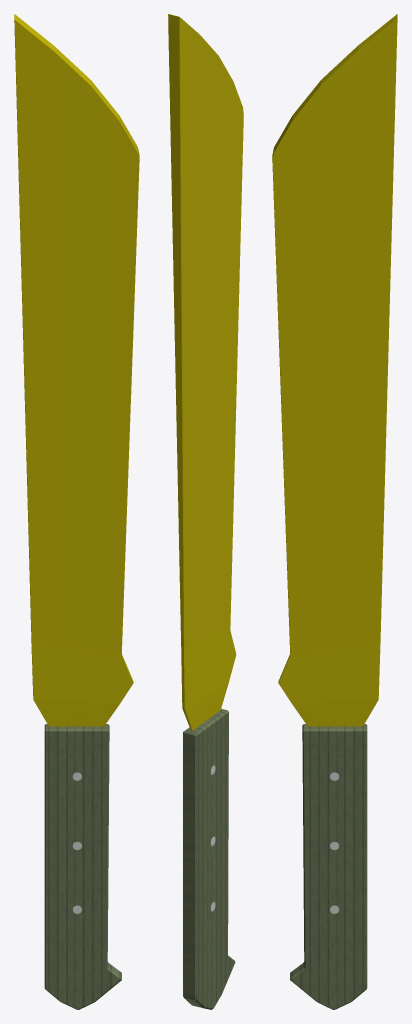
The model's file is macheteCenter.fbx.
3 views of the same model, side by side, from view 1: azimuth 90°, elevation 25°; view 2: azimuth 150°, elevation 25°; view 3: azimuth 270°, elevation 25° (orthographic). The views are drawn at different scales.
Visible parts, largest first — view 1: MacheteBlade, MacheteBase; view 2: MacheteBlade, MacheteBase; view 3: MacheteBlade, MacheteBase.
Boxes of the visible parts, bbox=[...] form: MacheteBlade: bbox=[14, 14, 139, 726]; MacheteBase: bbox=[44, 724, 121, 1009]; MacheteBlade: bbox=[168, 14, 243, 730]; MacheteBase: bbox=[183, 708, 235, 1009]; MacheteBlade: bbox=[272, 14, 397, 726]; MacheteBase: bbox=[290, 724, 367, 1009].
Size of the model in its own units: 0.3384 by 23.66 by 2.71.
